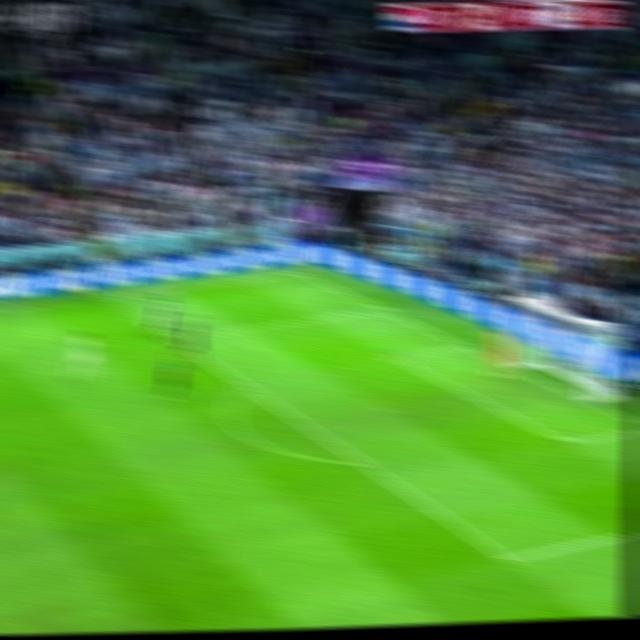bigarea_bottom_inner: (492, 546, 522, 569)
bigarea_top_inner: (164, 328, 187, 345)
bigarea_top_outter: (372, 299, 396, 317)
bottom_arc_area_intersection: (352, 450, 378, 472)
corner: (289, 264, 315, 279)
smallarea_bottom_inner: (551, 428, 580, 454)
smallarea_top_inner: (384, 346, 410, 364)
smallarea_top_outter: (452, 334, 478, 354)
top_arc_area_intersection: (237, 376, 263, 396)
